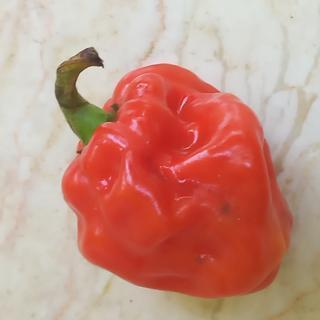Grade-B: (52, 59, 294, 299)
